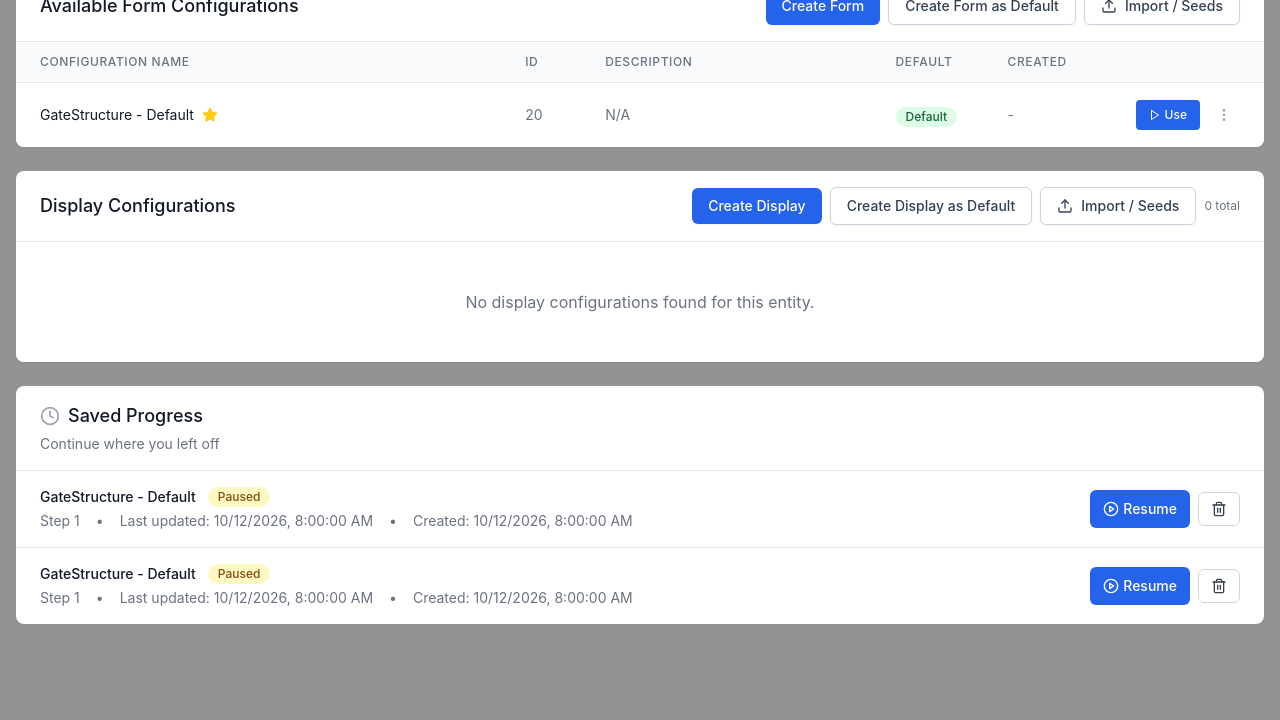
Test case: FormWizardPage: delete a draft that recorded created entities (KNG-162) › a refused delete shows the API's reason
The image size is (1280, 720).
(page scrolled)
Click the 2nd button named "Delete saved progress". click: point(1219, 586)
box: [1198, 569, 1240, 603]
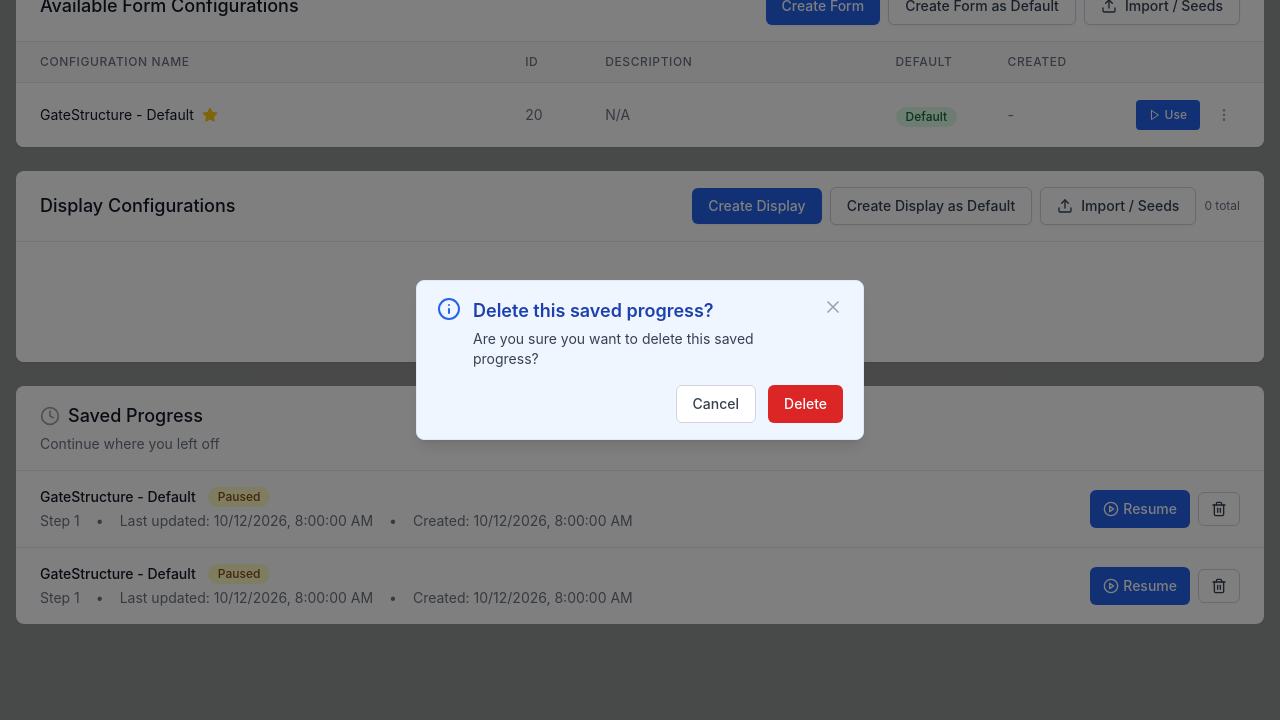
Click the button "Delete". click: point(806, 404)
box: [768, 385, 843, 423]
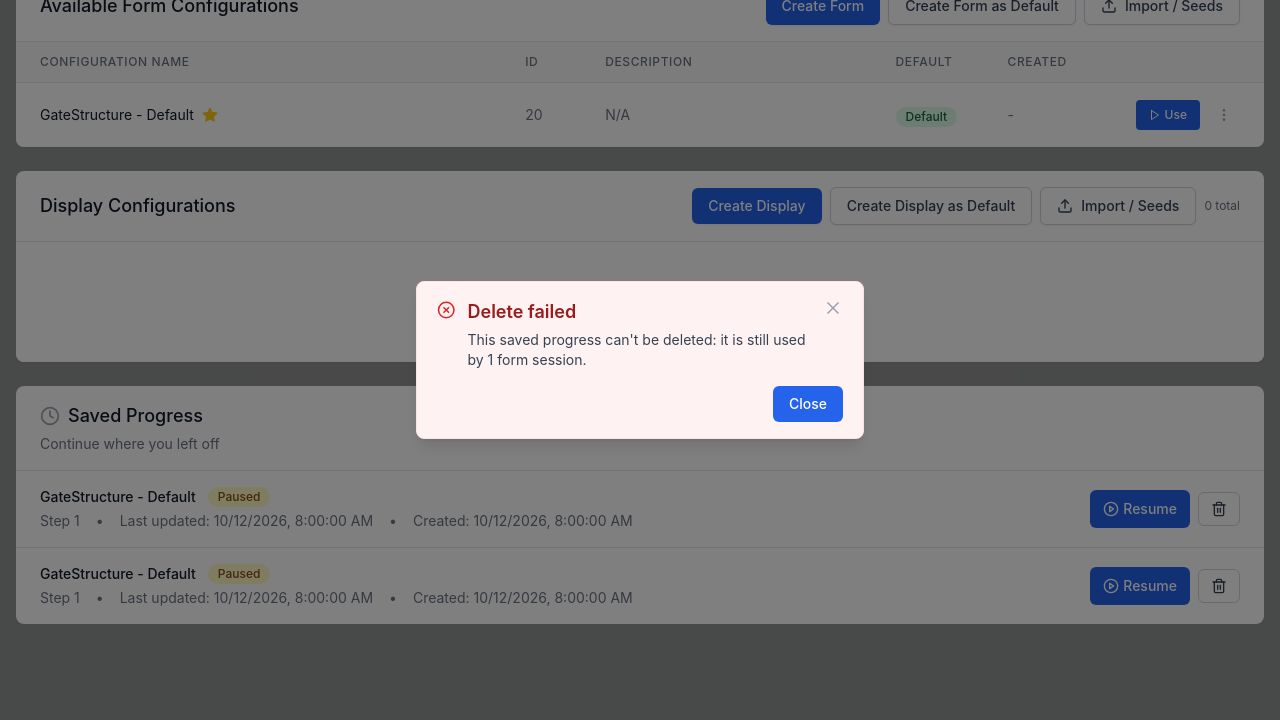
expect the text "This saved progress can't be deleted: it is still used by 1 form session." is shown: met, box [468, 330, 823, 370]
expect the number of buttons "Close" is 1: met, box [773, 386, 843, 422]
